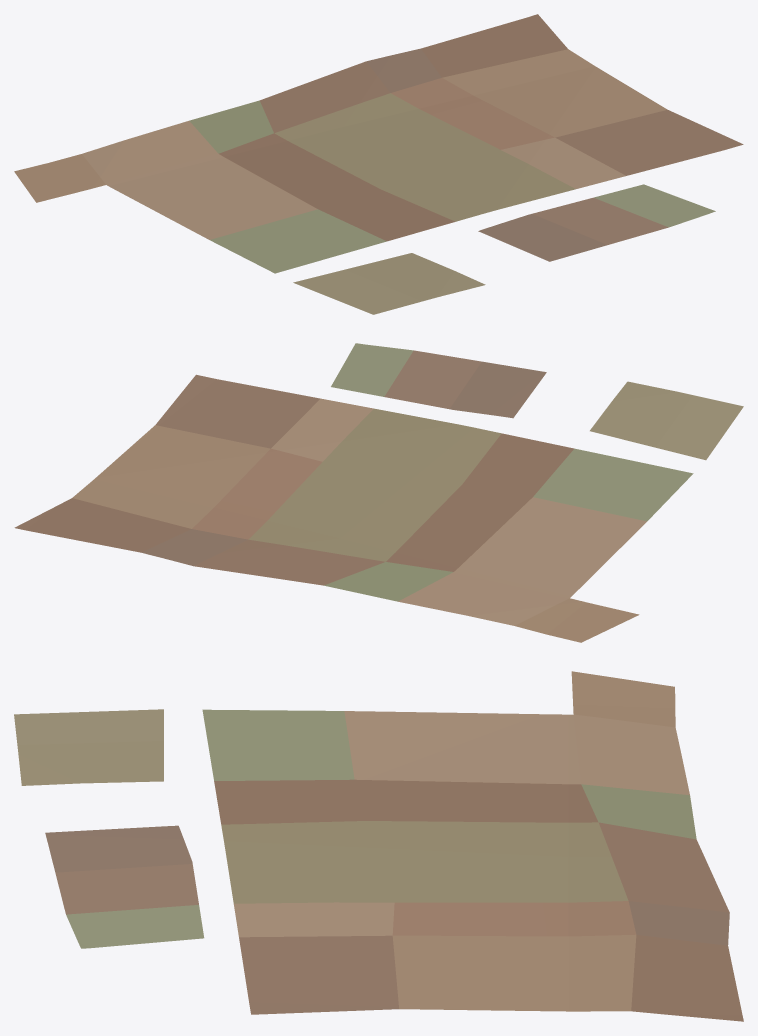
Rendered from farm_37_21_soil.glb.
The picture shows the model from 3 angles, top to bottom: view 1: azimuth 30°, elevation 25°; view 2: azimuth 150°, elevation 25°; view 3: azimuth 270°, elevation 25°; orthographic projection. The views are drawn at different scales.
Parts seen in each view (by area): view 1: geometry_0; view 2: geometry_0; view 3: geometry_0.
Boxes of the visible parts, x1,y1,x2,y2 form: geometry_0: (14,14,743,314); geometry_0: (14,343,743,642); geometry_0: (14,671,743,1021).
Bounding box in the file's own units: 184 × 7.73 × 159.
